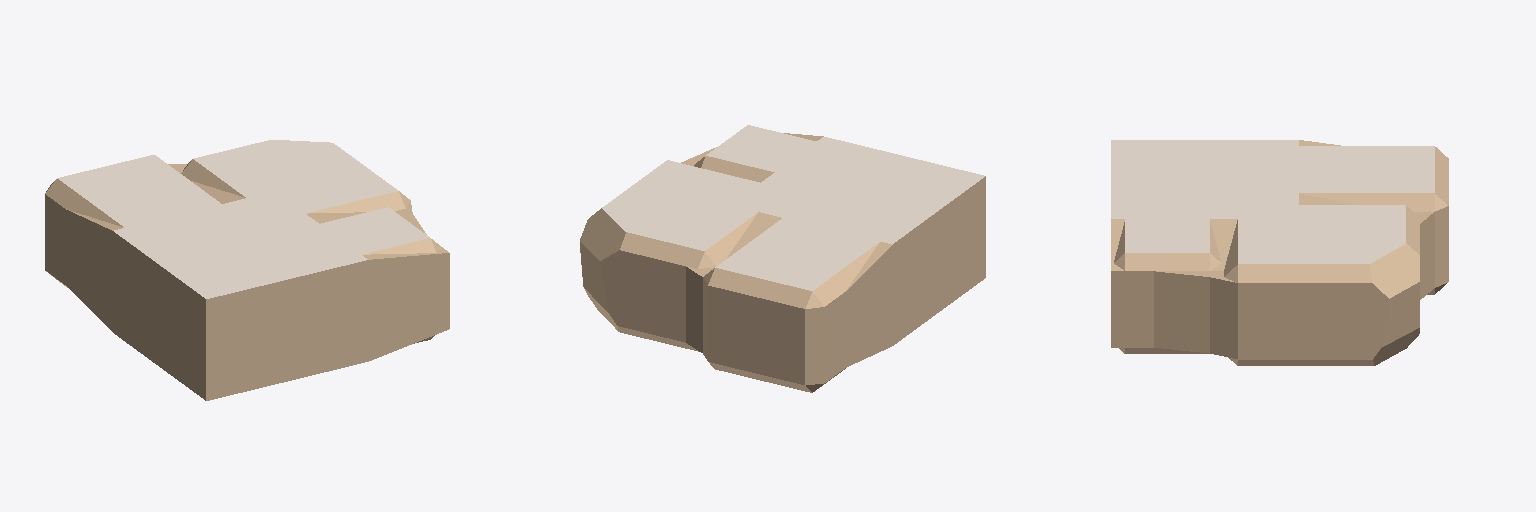
The model's file is Floor_Ruined_Corner_Outer_1.obj.
The picture shows the model from 3 angles: view 1: azimuth 30°, elevation 25°; view 2: azimuth 150°, elevation 25°; view 3: azimuth 270°, elevation 25°; orthographic projection.
Visible parts, largest first — view 1: object1; view 2: object1; view 3: object1.
Part boxes in pixels (bbox=[...]): object1: bbox=[45, 140, 449, 400]; object1: bbox=[580, 125, 985, 392]; object1: bbox=[1111, 140, 1448, 365].
Bounding box in the file's own units: 0.55 × 0.2 × 0.6.